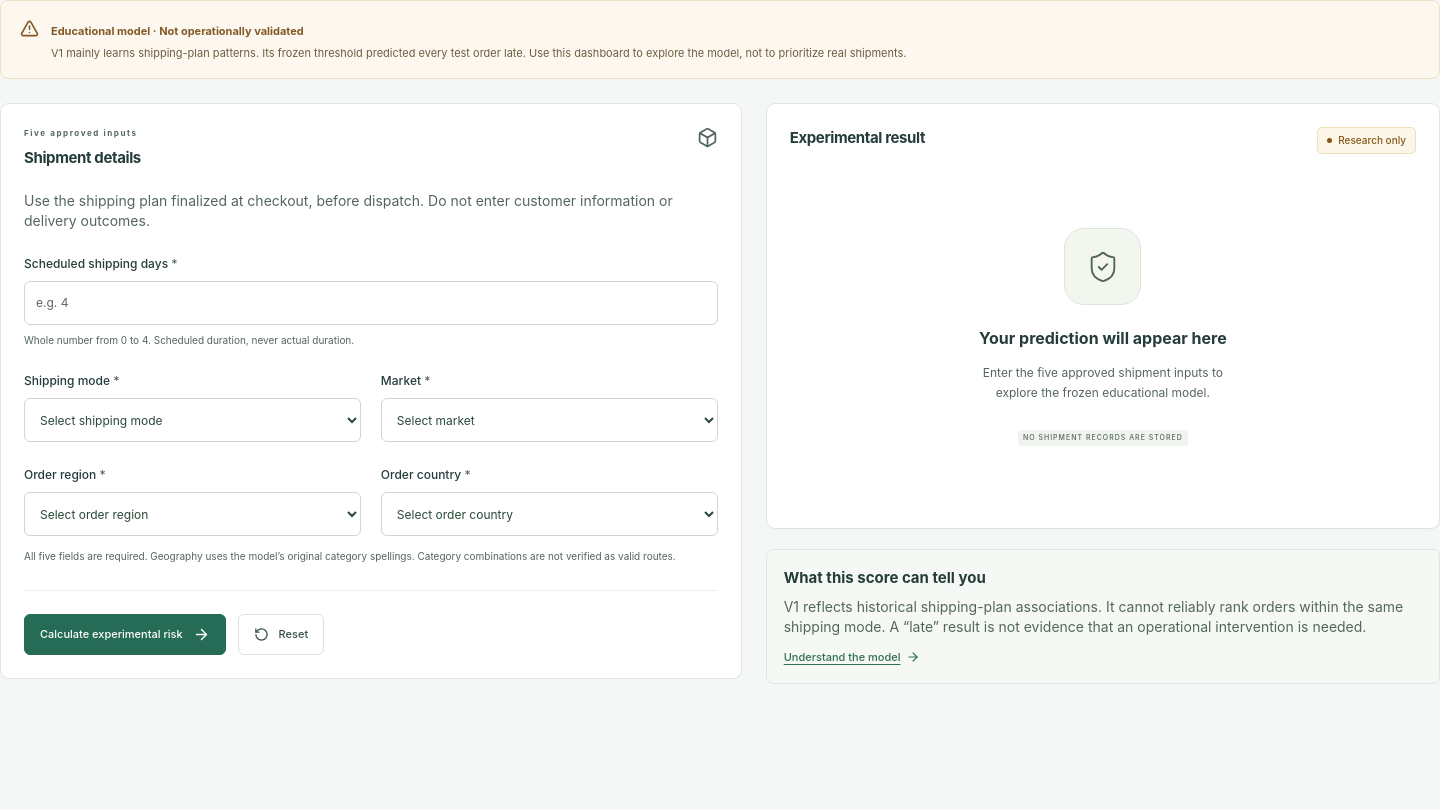
Test case: shipment prediction form › uses exactly five accessible inputs and prevents invalid submission
The image size is (1440, 810).
Expected: the number of dropdowns is 4, [24,398,361,442]; [381,398,718,442]; [24,492,361,536]; [381,492,718,536]
Click the button "Calculate experimental risk" at [125, 634], box [24,614,226,655]
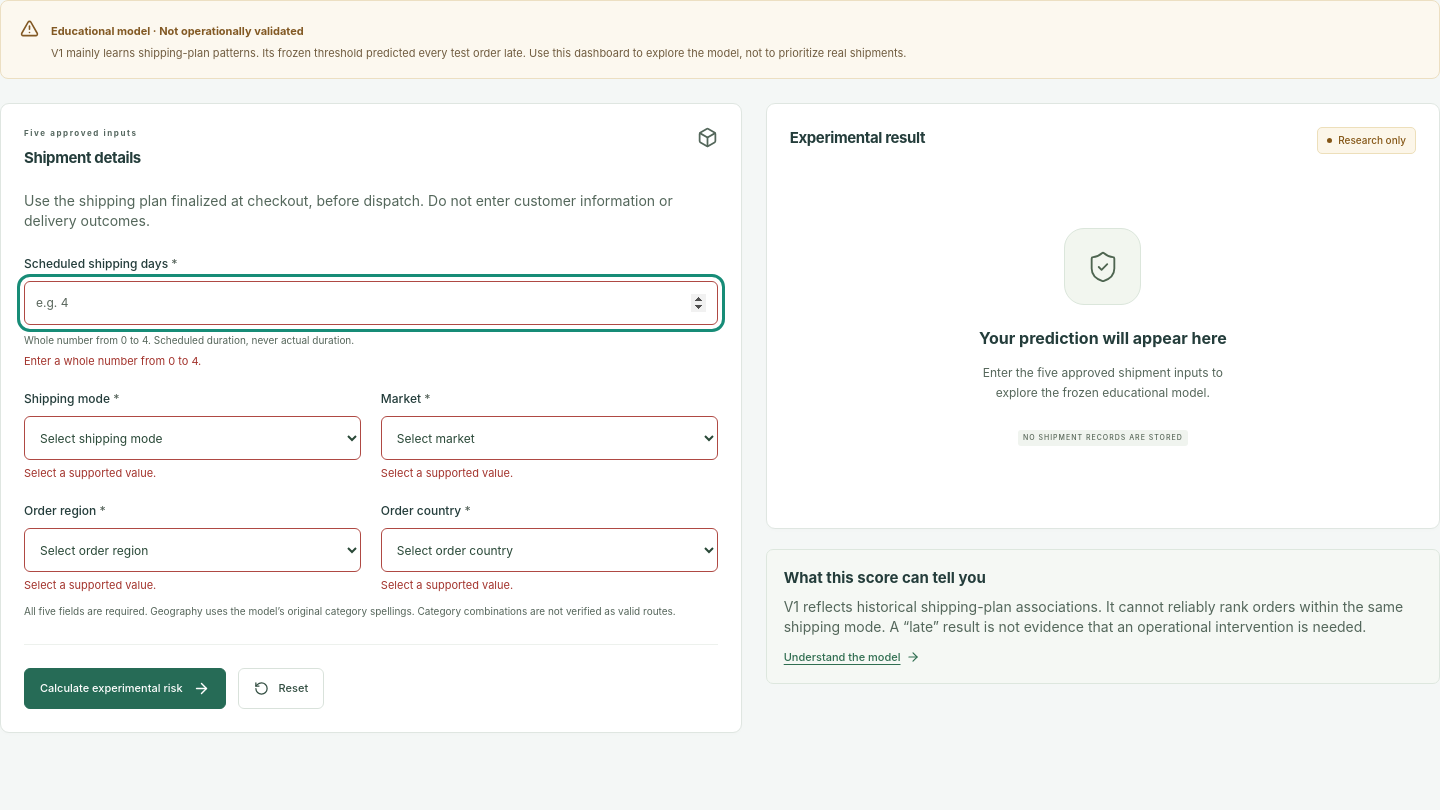
Expected: the text "Enter a whole number from 0 to 4." is shown, [24,354,201,368]
